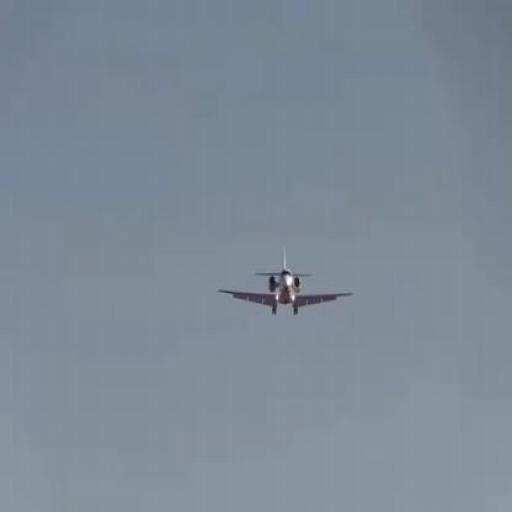aircraft: (216, 250, 356, 319)
